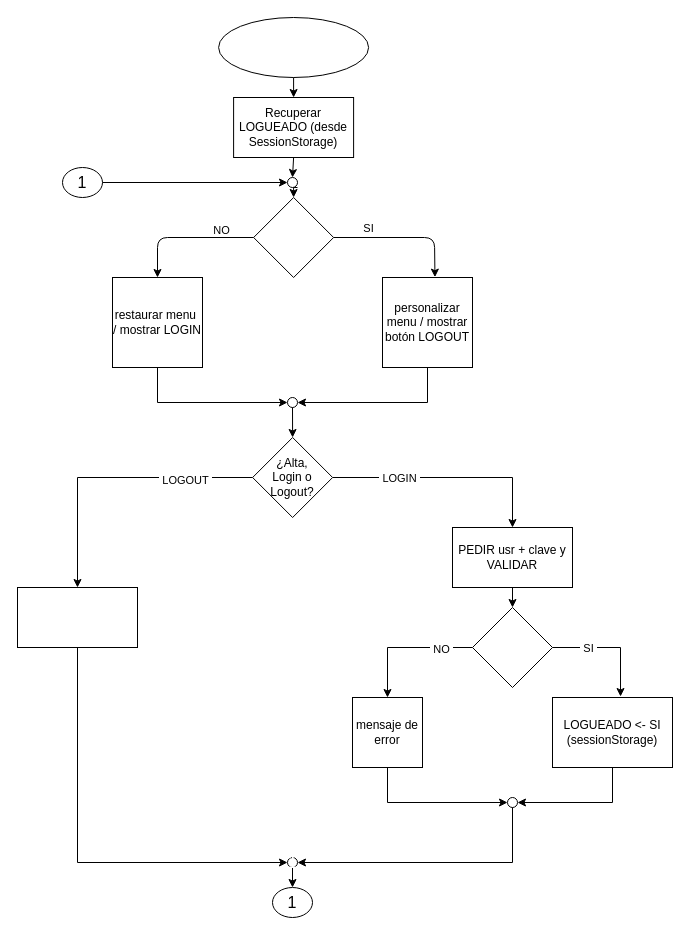
Some shapes in this 690 by 935 pixel diagram are drawn without their labels. Here are the shapes that lost their labels. From the top down, the centre of each, then its label:
At pixel 293 47: "cargar index.html".
At pixel 293 237: "¿hay usuario logueado ya?".
At pixel 77 617: "LOGUEADO <- NO (sessionStorage)".
At pixel 512 647: "¿correcto?".
